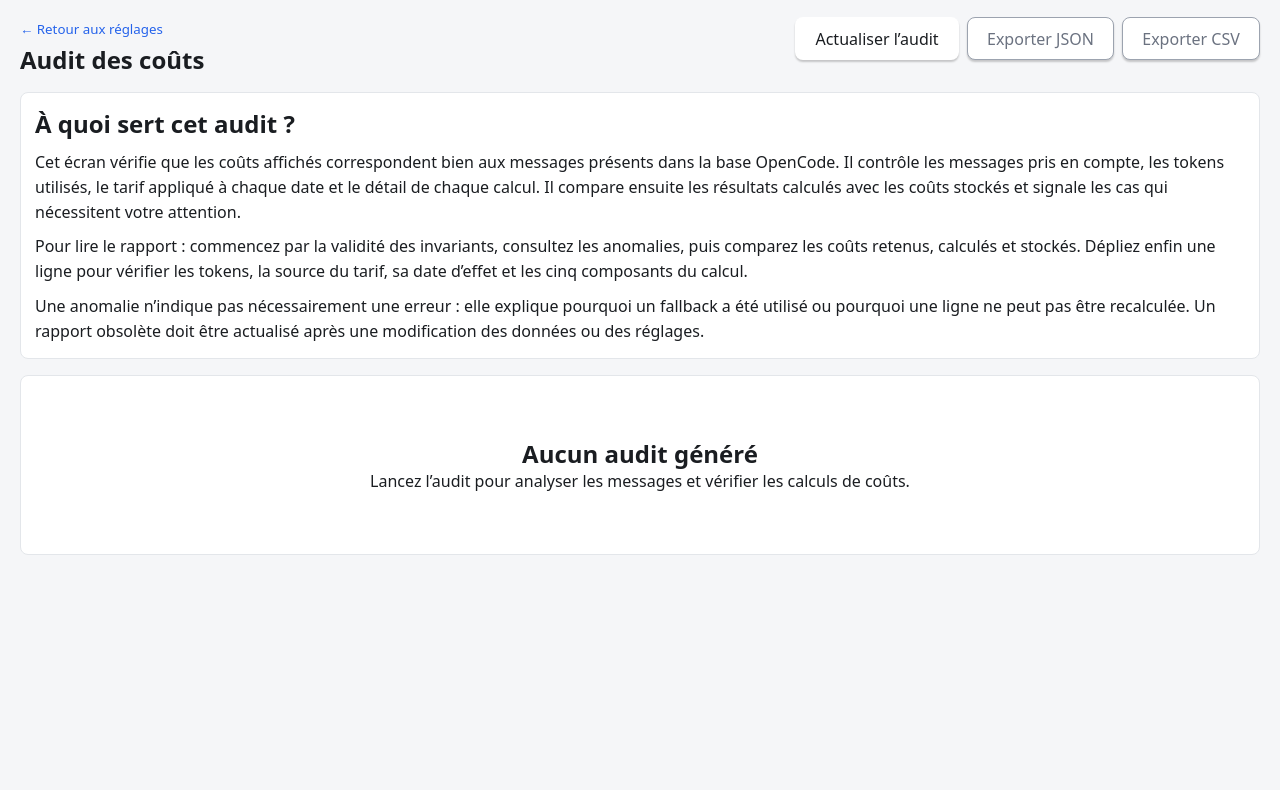
Test: AuditView › expands a message and exposes its breakdown and rate provenance
What coordinates should you click on to do the following:
click the button "Actualiser l’audit"
I would click on:
 (877, 39)
Its box is x1=795 y1=17 x2=959 y2=60.
(page scrolled)
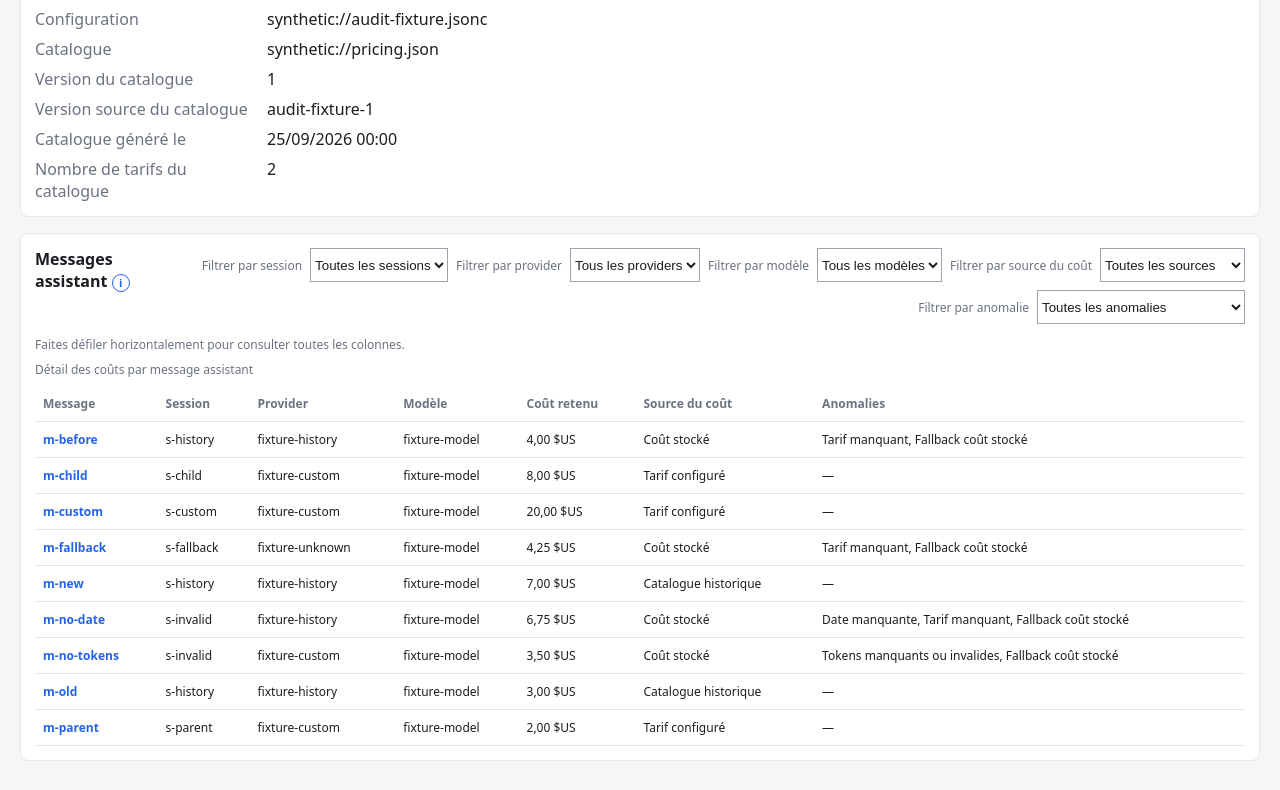
What coordinates should you click on to do the following:
click the button "m-custom"
I would click on:
 (73, 512)
Its box is x1=43 y1=503 x2=103 y2=520.
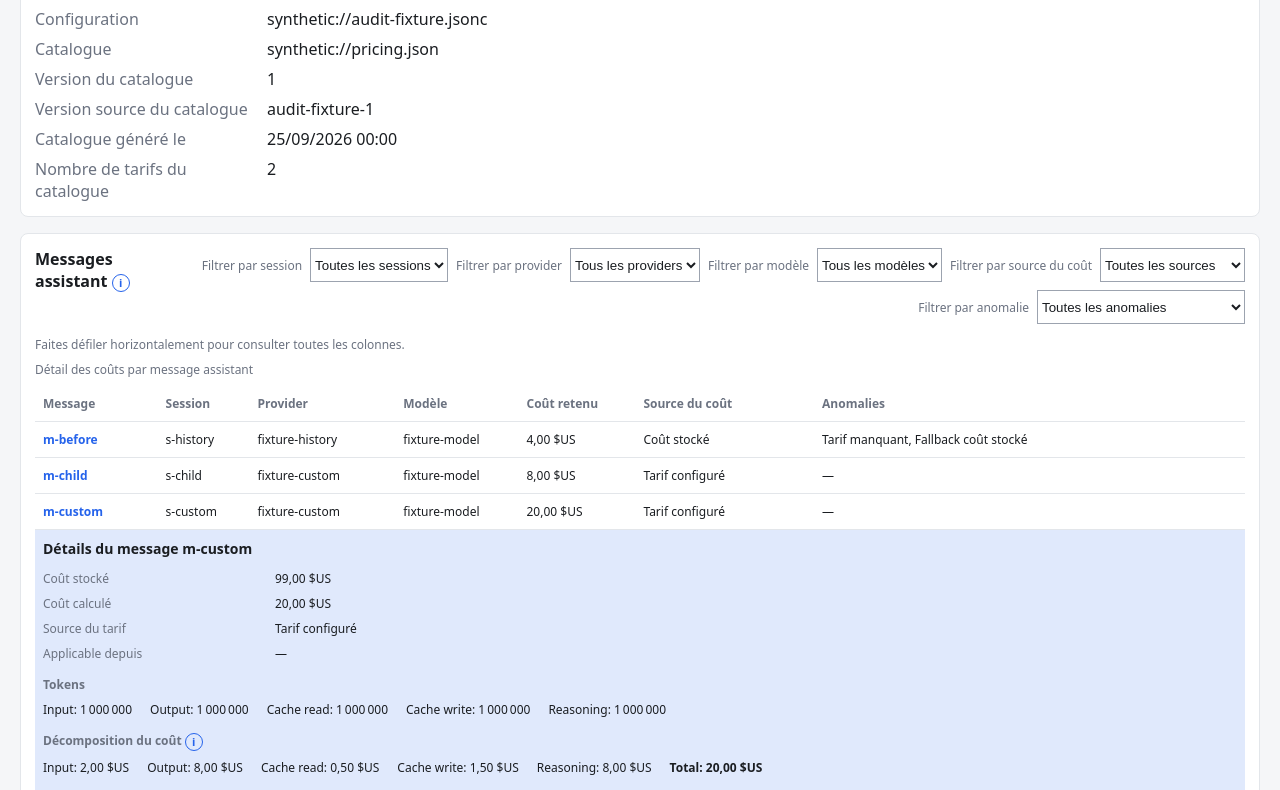
expect the text "Tarif configuré" is shown: met, box x1=635 y1=458 x2=814 y2=494
expect the text "Décomposition du coût" is shown: met, box x1=43 y1=732 x2=182 y2=749
expect the text "Input" is shown: met, box x1=43 y1=701 x2=74 y2=718
